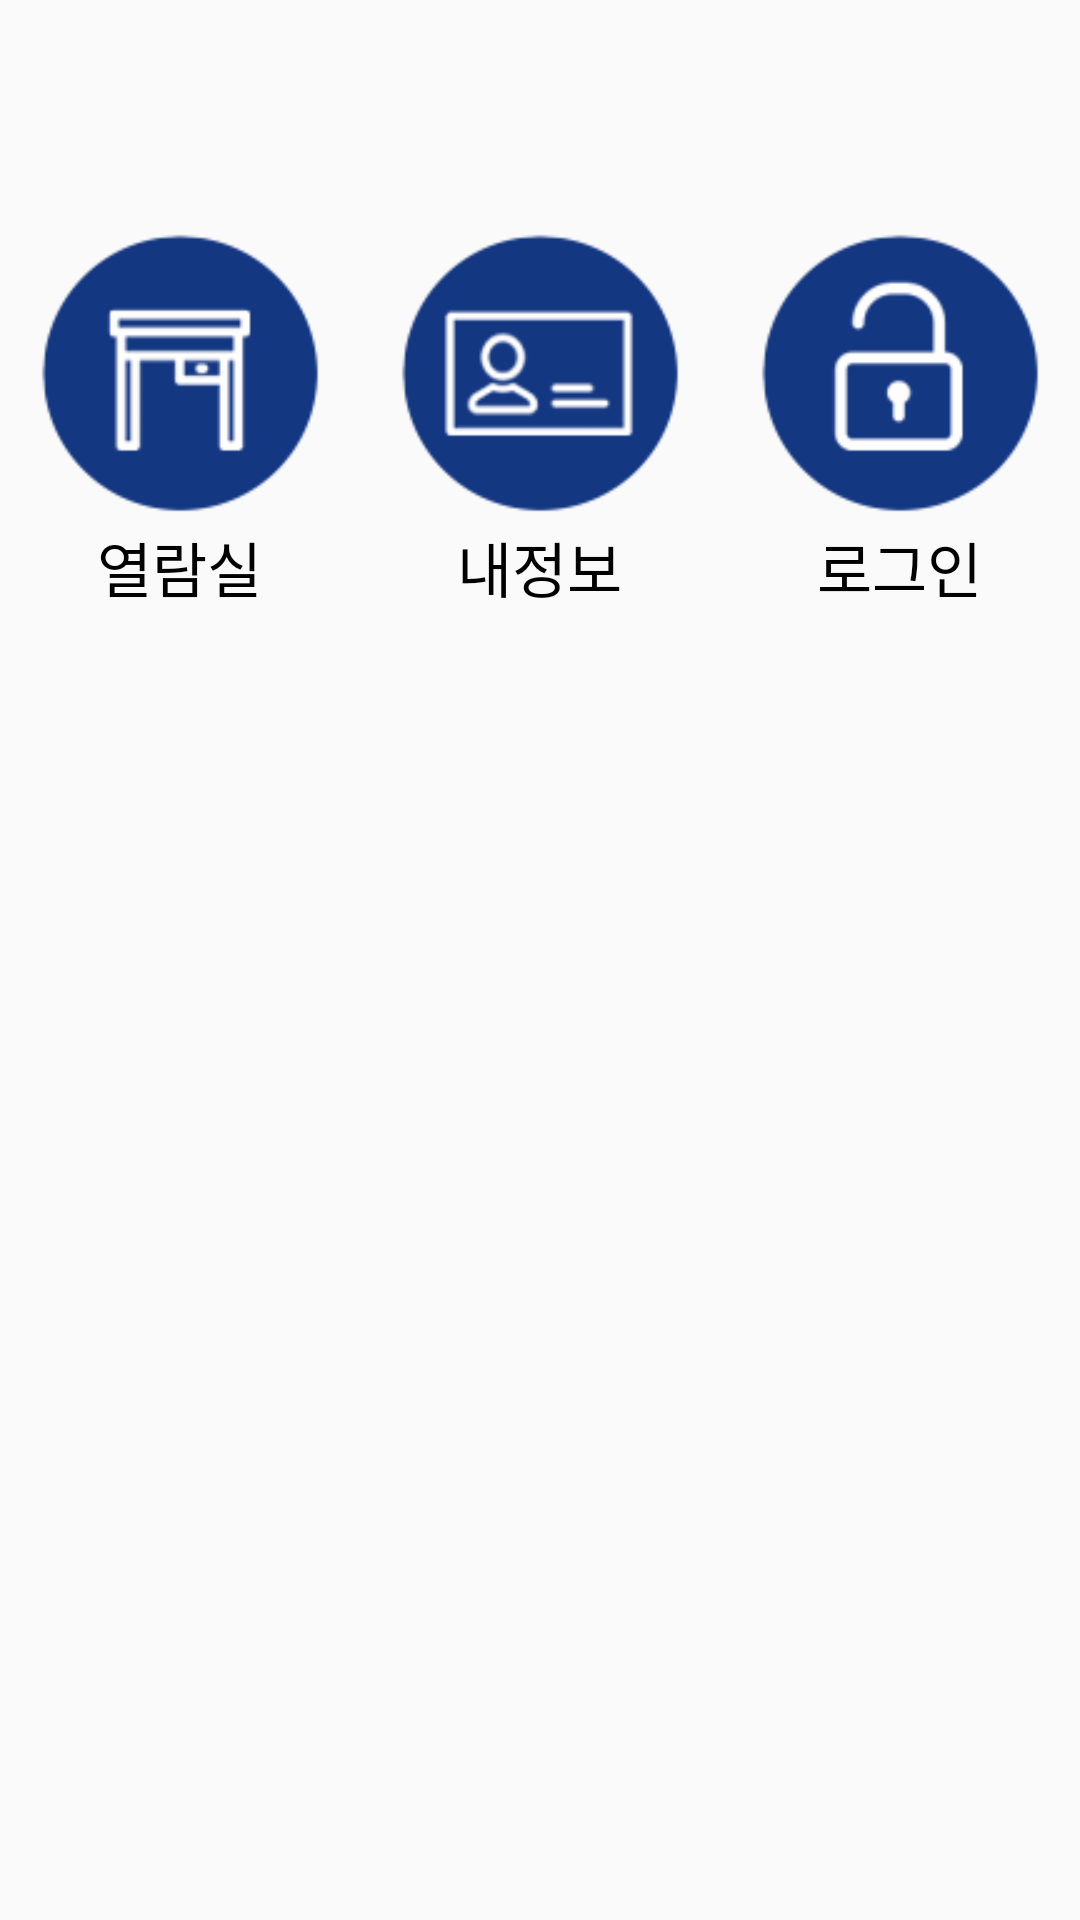

Where to tap for icons on this 1080×1920 app screen, as (x=x, y=y):
membership: (x=540, y=373)
unlock: (x=900, y=373)
